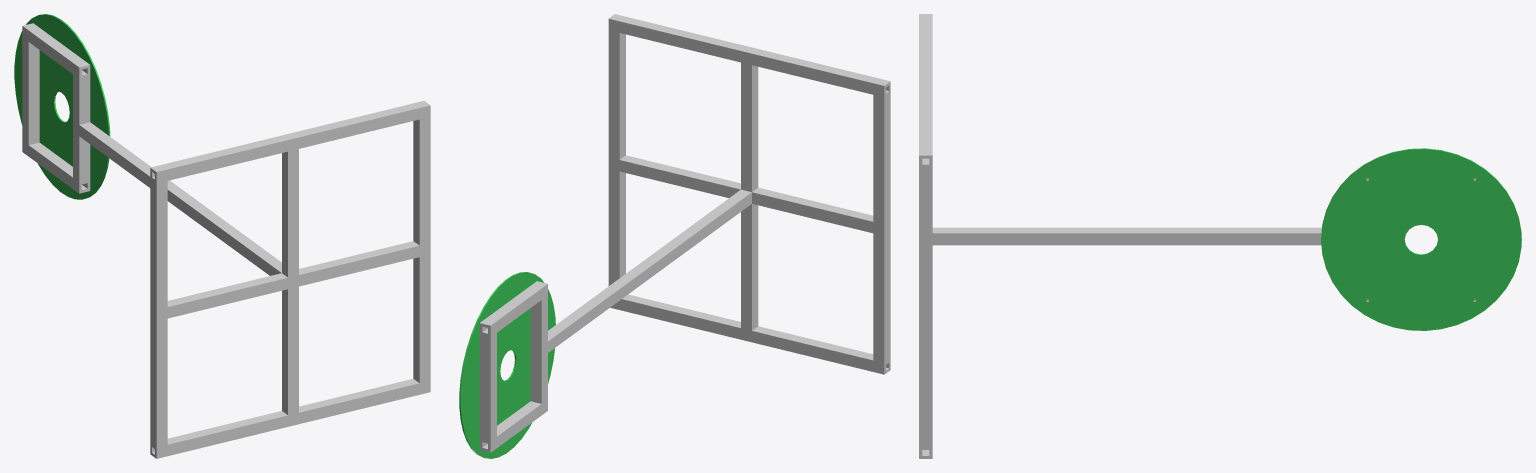
The model's file is ok_tc6_small_target.dae.
The picture shows the model from 3 angles, left to right: view 1: azimuth 30°, elevation 25°; view 2: azimuth 150°, elevation 25°; view 3: azimuth 270°, elevation 25°; orthographic projection. The views are drawn at different scales.
Parts seen in each view (by area): view 1: node0; view 2: node0; view 3: node0.
Part boxes in pixels (x1,y1,x2,y2): node0: (14, 14, 430, 458); node0: (459, 14, 890, 458); node0: (919, 14, 1521, 458).
Size of the model in its own units: 1 by 1.8 by 1.
